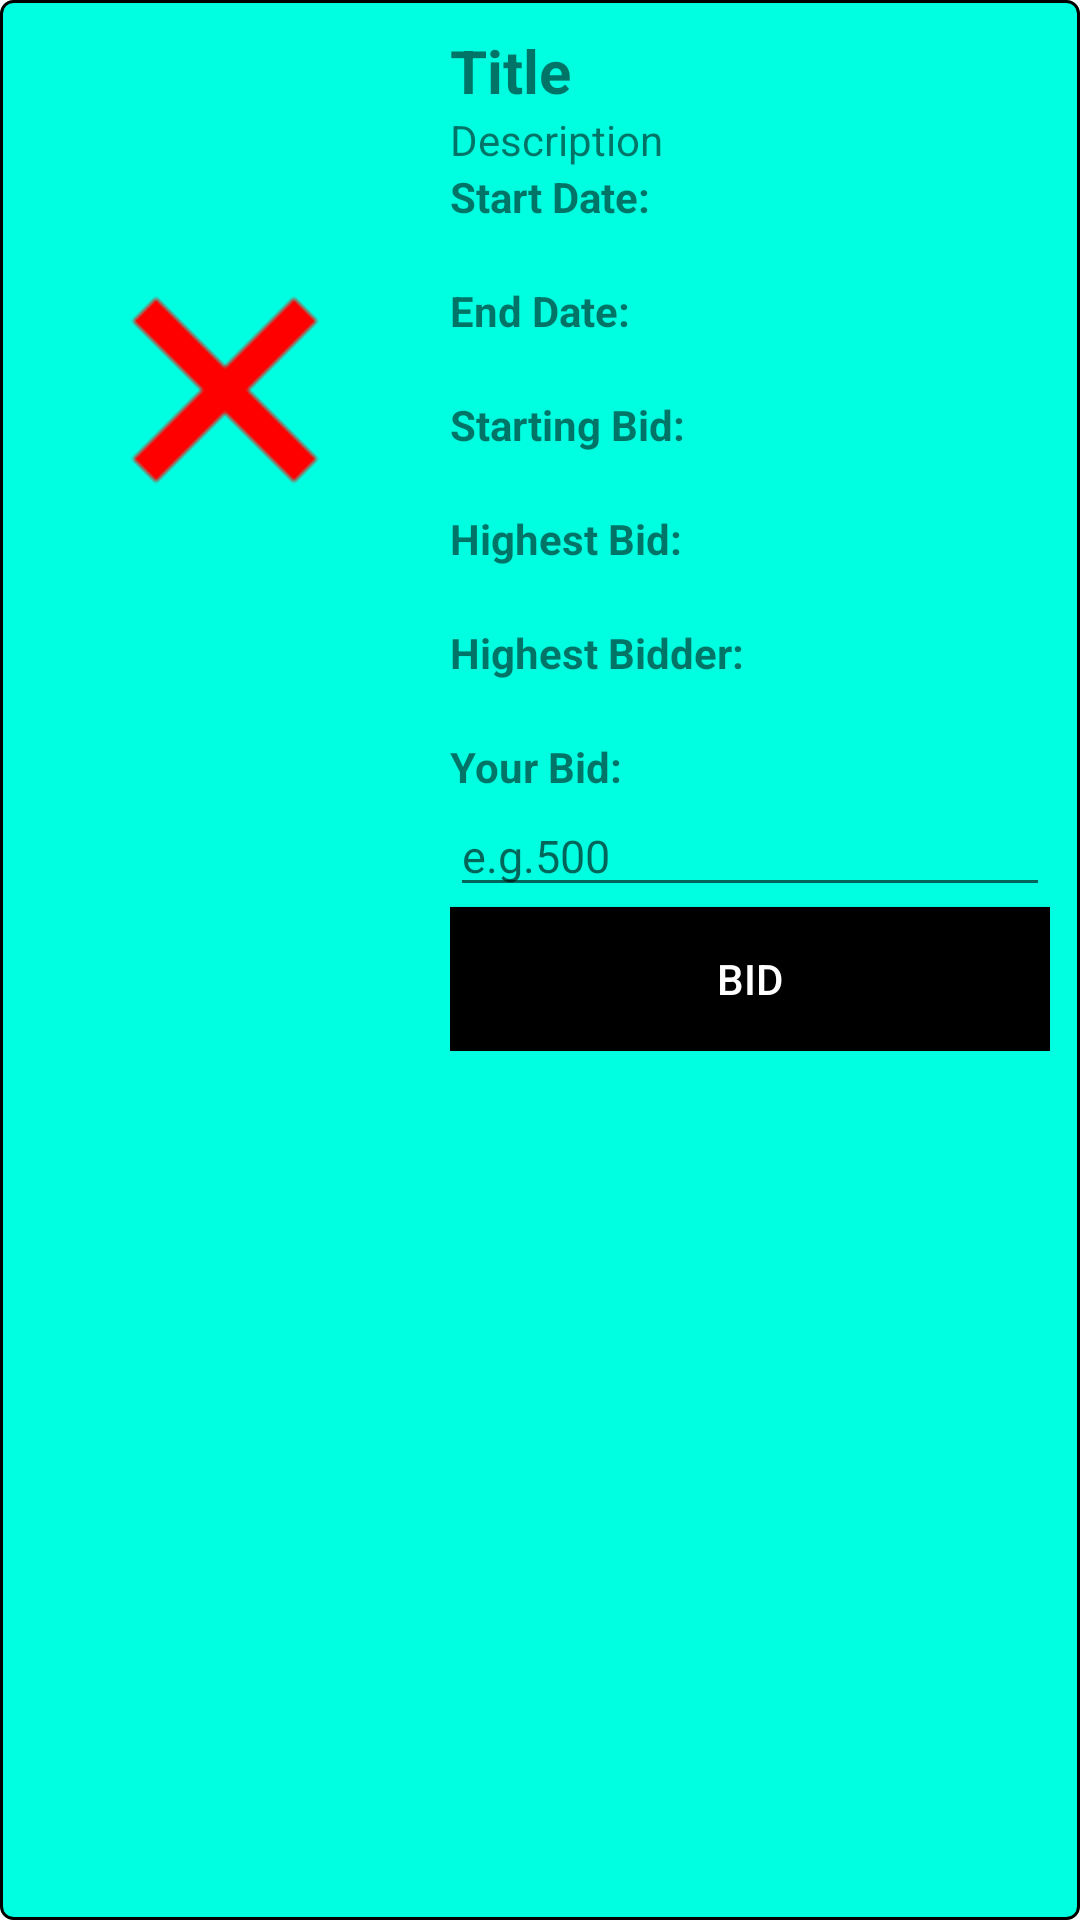

Point at icon controls on the screen. Image size 1080 x 1920, points as (x=x, y=y).
cross: (x=225, y=390)
